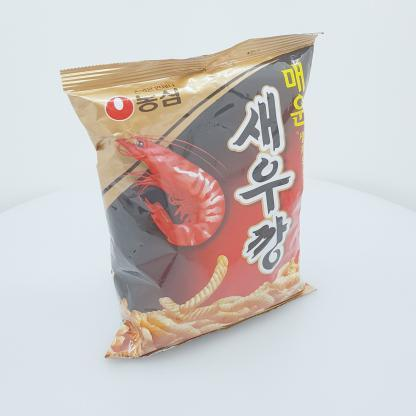Plastic Packaging: (57, 25, 338, 366)
